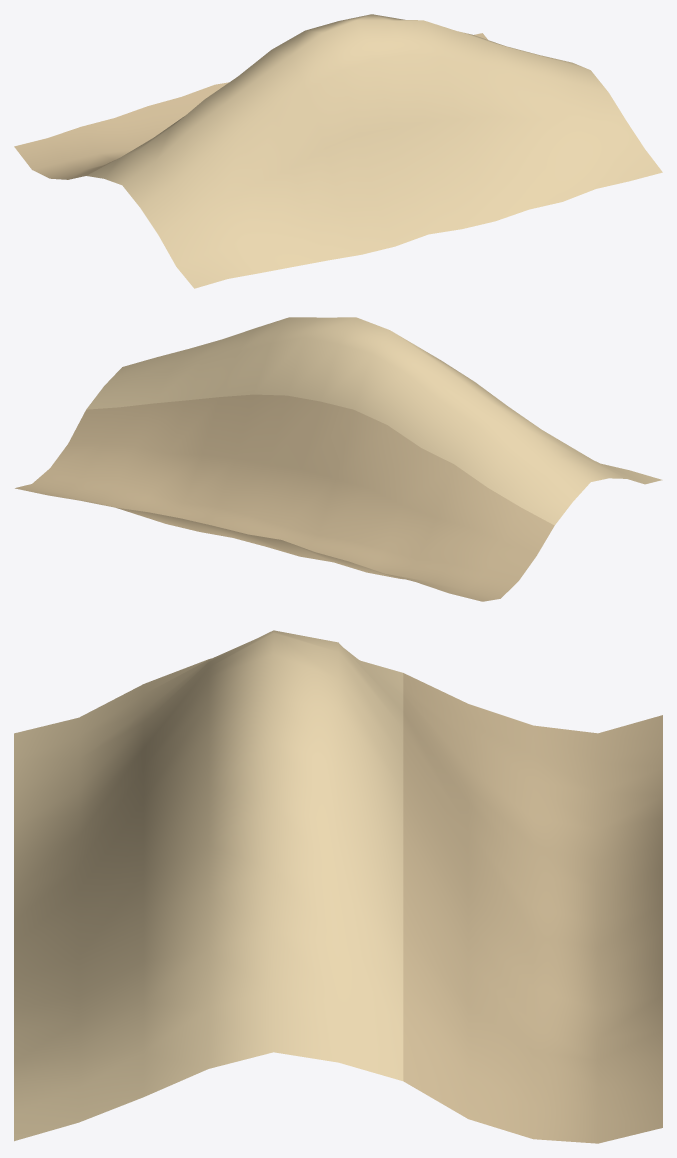
Rendered from desert_Dune.fbx.
The picture shows the model from 3 angles, top to bottom: view 1: azimuth 30°, elevation 25°; view 2: azimuth 150°, elevation 25°; view 3: azimuth 270°, elevation 25°; orthographic projection. The views are drawn at different scales.
Visible parts, largest first — view 1: Dune; view 2: Dune; view 3: Dune.
Part boxes in pixels (left/top/right/bottom): Dune: left=14, top=14, right=662, bottom=288; Dune: left=15, top=317, right=662, bottom=601; Dune: left=14, top=630, right=662, bottom=1143.
Bounding box in the file's own units: 6 × 2.02 × 4.
